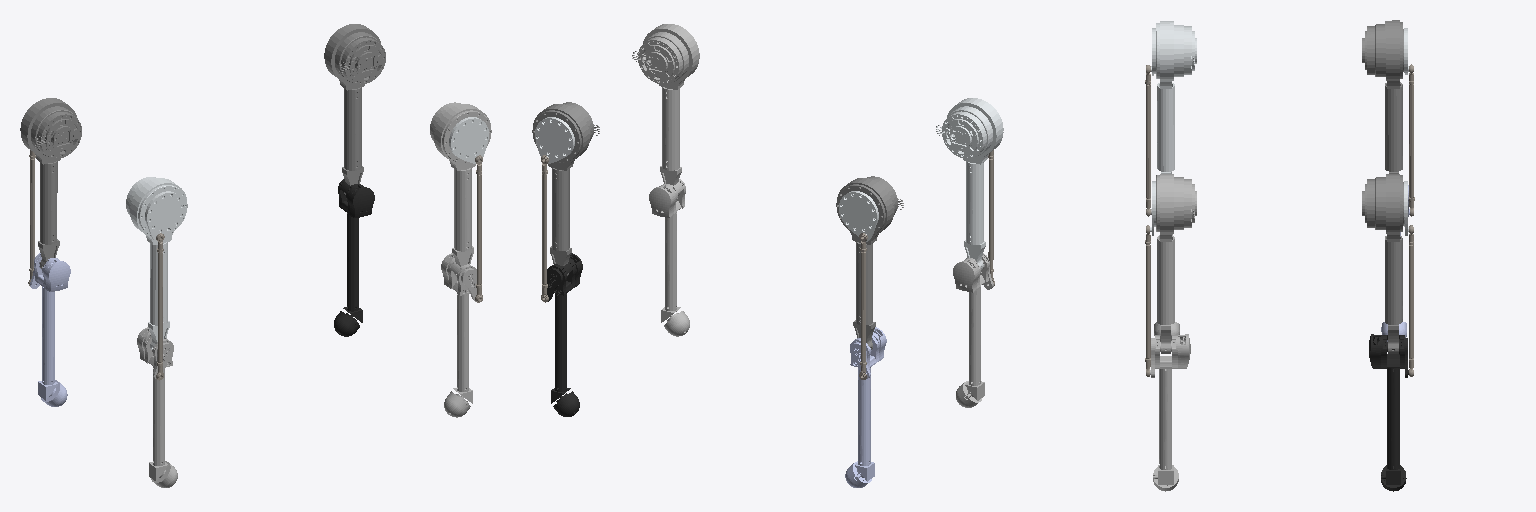
--- Render facts (derived) ---
The picture shows the robot from 3 angles, left to right: view 1: azimuth 30°, elevation 25°; view 2: azimuth 150°, elevation 25°; view 3: azimuth 270°, elevation 25°; orthographic projection.
Robot: PONGBOT_Q_V1 — 22 links, 21 joints (21 continuous); root link REAR_BODY; default pose: every joint at zero.
Links seen in each view (by area): view 1: FL_THIGH, RL_THIGH, FR_THIGH, RR_THIGH, RL_ROTATOR3, FR_ROTATOR3, FL_ROTATOR3, RR_ROTATOR3, FR_ROTATOR1, RR_ROTATOR1, FR_ROTATOR2, RR_ROTATOR2 (+1 smaller); view 2: RR_THIGH, FR_THIGH, FL_THIGH, RL_THIGH, FL_ROTATOR3, RR_ROTATOR3, FR_ROTATOR3, RL_ROTATOR3, RL_ROTATOR1, FL_ROTATOR1, RL_ROTATOR2, FL_ROTATOR2 (+1 smaller); view 3: FL_THIGH, FR_THIGH, RL_THIGH, RR_THIGH, FR_ROTATOR3, FL_ROTATOR3, RR_ROTATOR2, FL_ROTATOR2, RL_ROTATOR2, FR_ROTATOR2.
Boxes of the visible links, <box> form: FL_THIGH: <box>324,24,385,194</box>; RL_THIGH: <box>20,98,81,268</box>; FR_THIGH: <box>430,102,491,276</box>; RR_THIGH: <box>126,177,187,349</box>; RL_ROTATOR3: <box>30,253,70,406</box>; FR_ROTATOR3: <box>441,253,476,417</box>; FL_ROTATOR3: <box>334,179,374,336</box>; RR_ROTATOR3: <box>137,327,177,487</box>; FR_ROTATOR1: <box>449,117,488,163</box>; RR_ROTATOR1: <box>145,191,184,241</box>; FR_ROTATOR2: <box>475,155,482,302</box>; RR_ROTATOR2: <box>156,233,164,380</box>; RR_THIGH: <box>936,98,1003,269</box>; FR_THIGH: <box>632,24,699,194</box>; FL_THIGH: <box>532,102,599,275</box>; RL_THIGH: <box>836,176,903,349</box>; FL_ROTATOR3: <box>547,253,582,416</box>; RR_ROTATOR3: <box>953,253,993,407</box>; FR_ROTATOR3: <box>649,179,689,336</box>; RL_ROTATOR3: <box>845,327,886,487</box>; RL_ROTATOR1: <box>839,191,878,241</box>; FL_ROTATOR1: <box>535,117,574,163</box>; RL_ROTATOR2: <box>859,233,867,379</box>; FL_ROTATOR2: <box>541,155,548,302</box>; FL_THIGH: <box>1362,174,1403,353</box>; FR_THIGH: <box>1156,174,1196,353</box>; RL_THIGH: <box>1362,20,1403,173</box>; RR_THIGH: <box>1156,21,1196,173</box>; FR_ROTATOR3: <box>1150,334,1190,491</box>; FL_ROTATOR3: <box>1369,334,1408,491</box>; RR_ROTATOR2: <box>1145,65,1150,216</box>; FL_ROTATOR2: <box>1409,225,1413,376</box>; RL_ROTATOR2: <box>1409,64,1414,216</box>; FR_ROTATOR2: <box>1145,225,1150,376</box>.
Bounding box of the posed robot: 0.8226 × 0.5209 × 0.6772 m (x, y, z).
Meshes: 22 distinct files referenced, 16 mesh visuals loaded (16 binary STL); not drawn: 6 (reference not matched to a file when rendering).

The robot description file, URDF, robot "PONGBOT_Q_V1":
<robot
  name="PONGBOT_Q_V1">
  <link
    name="REAR_BODY">
    <inertial>
      <origin
        xyz="0.1148 0.002 0.0148"
        rpy="0 0 0" />
      <mass
        value="11.1272" />
      <inertia
        ixx="0.1226"
        ixy="0.0038"
        ixz="-0.0088"
        iyy="0.1436"
        iyz="-0.0012"
        izz="0.2321" />
    </inertial>
    <visual>
      <origin
        xyz="0 0 0"
        rpy="0 0 0" />
      <geometry>
        <mesh
          filename="package://PONGBOT_Q_V1/meshes/REAR_BODY.STL" />
      </geometry>
      <material
        name="">
        <color
          rgba="0.79216 0.81961 0.93333 1" />
      </material>
    </visual>
    <collision>
      <origin
        xyz="0 0 0"
        rpy="0 0 0" />
      <geometry>
        <mesh
          filename="package://PONGBOT_Q_V1/meshes/REAR_BODY.STL" />
      </geometry>
    </collision>
  </link>
  <link
    name="FRONT_BODY">
    <inertial>
      <origin
        xyz="0.2333 -0.0003 -0.0078"
        rpy="0 0 0" />
      <mass
        value="12.2749" />
      <inertia
        ixx="0.1398"
        ixy="0.0001"
        ixz="-0.0097"
        iyy="0.1334"
        iyz="0"
        izz="0.2186" />
    </inertial>
    <visual>
      <origin
        xyz="0 0 0"
        rpy="0 0 0" />
      <geometry>
        <mesh
          filename="package://PONGBOT_Q_V1/meshes/FRONT_BODY.STL" />
      </geometry>
      <material
        name="">
        <color
          rgba="0.19608 0.19608 0.19608 1" />
      </material>
    </visual>
    <collision>
      <origin
        xyz="0 0 0"
        rpy="0 0 0" />
      <geometry>
        <mesh
          filename="package://PONGBOT_Q_V1/meshes/FRONT_BODY.STL" />
      </geometry>
    </collision>
  </link>
  <joint
    name="WAIST_JOINT"
    type="continuous">
    <origin
      xyz="0.349999861844157 0 0.0352383027140765"
      rpy="9.86076131526265E-32 -1.06745632209058E-30 3.94430452610506E-31" />
    <parent
      link="REAR_BODY" />
    <child
      link="FRONT_BODY" />
    <axis
      xyz="0 0 0.999999999992314" />
  </joint>
  <link
    name="FL_HIP">
    <inertial>
      <origin
        xyz="0.0009 0.0001 -0.0002"
        rpy="0 0 0" />
      <mass
        value="1.1163" />
      <inertia
        ixx="0.0011"
        ixy="0"
        ixz="0"
        iyy="0.0012"
        iyz="0"
        izz="0.0012" />
    </inertial>
    <visual>
      <origin
        xyz="0 0 0"
        rpy="0 0 0" />
      <geometry>
        <mesh
          filename="package://PONGBOT_Q_V1/meshes/FL_HIP.STL" />
      </geometry>
      <material
        name="">
        <color
          rgba="0.75294 0.75294 0.75294 1" />
      </material>
    </visual>
    <collision>
      <origin
        xyz="0 0 0"
        rpy="0 0 0" />
      <geometry>
        <mesh
          filename="package://PONGBOT_Q_V1/meshes/FL_HIP.STL" />
      </geometry>
    </collision>
  </link>
  <joint
    name="FL_HIP_JOINT"
    type="continuous">
    <origin
      xyz="0.350000139384095 0.11502409051225 -0.0355502055156764"
      rpy="0 8.47032947254301E-22 2.10366195349206E-15" />
    <parent
      link="FRONT_BODY" />
    <child
      link="FL_HIP" />
    <axis
      xyz="-0.999999999992314 0 0" />
  </joint>
  <link
    name="FL_THIGH">
    <inertial>
      <origin
        xyz="0 -0.0162 -0.0264"
        rpy="0 0 0" />
      <mass
        value="1.8748" />
      <inertia
        ixx="0.0112"
        ixy="0"
        ixz="0"
        iyy="0.0117"
        iyz="-0.0008"
        izz="0.0017" />
    </inertial>
    <visual>
      <origin
        xyz="0 0 0"
        rpy="0 0 0" />
      <geometry>
        <mesh
          filename="package://PONGBOT_Q_V1/meshes/FL_THIGH.STL" />
      </geometry>
      <material
        name="">
        <color
          rgba="0.6 0.6 0.6 1" />
      </material>
    </visual>
    <collision>
      <origin
        xyz="0 0 0"
        rpy="0 0 0" />
      <geometry>
        <mesh
          filename="package://PONGBOT_Q_V1/meshes/FL_THIGH.STL" />
      </geometry>
    </collision>
  </link>
  <joint
    name="FL_THIGH_JOINT"
    type="continuous">
    <origin
      xyz="0 0.105 0"
      rpy="0 -8.47032948321757E-22 -2.10366195349206E-15" />
    <parent
      link="FL_HIP" />
    <child
      link="FL_THIGH" />
    <axis
      xyz="0 1 0" />
  </joint>
  <link
    name="FL_ROTATOR1">
    <inertial>
      <origin
        xyz="0.0021 -0.0028 -0.0058"
        rpy="0 0 0" />
      <mass
        value="0.072" />
      <inertia
        ixx="0.0001"
        ixy="0"
        ixz="0"
        iyy="0.0001"
        iyz="0"
        izz="0" />
    </inertial>
    <visual>
      <origin
        xyz="0 0 0"
        rpy="0 0 0" />
      <geometry>
        <mesh
          filename="package://PONGBOT_Q_V1/meshes/FL_ROTATOR1.STL" />
      </geometry>
      <material
        name="">
        <color
          rgba="0.89804 0.91765 0.92941 1" />
      </material>
    </visual>
    <collision>
      <origin
        xyz="0 0 0"
        rpy="0 0 0" />
      <geometry>
        <mesh
          filename="package://PONGBOT_Q_V1/meshes/FL_ROTATOR1.STL" />
      </geometry>
    </collision>
  </link>
  <joint
    name="FL_ROTATOR1_JOINT"
    type="continuous">
    <origin
      xyz="0 0.0276499999999884 0"
      rpy="9.86076131526265E-32 -1.06745632209058E-30 0" />
    <parent
      link="FL_THIGH" />
    <child
      link="FL_ROTATOR1" />
    <axis
      xyz="0 1 0" />
  </joint>
  <link
    name="FL_ROTATOR2">
    <inertial>
      <origin
        xyz="0 0 -0.1525"
        rpy="0 0 0" />
      <mass
        value="0.2047" />
      <inertia
        ixx="0.0018"
        ixy="0"
        ixz="0"
        iyy="0.0018"
        iyz="0"
        izz="0" />
    </inertial>
    <visual>
      <origin
        xyz="0 0 0"
        rpy="0 0 0" />
      <geometry>
        <mesh
          filename="package://PONGBOT_Q_V1/meshes/FL_ROTATOR2.STL" />
      </geometry>
      <material
        name="">
        <color
          rgba="0.64706 0.61961 0.58824 1" />
      </material>
    </visual>
    <collision>
      <origin
        xyz="0 0 0"
        rpy="0 0 0" />
      <geometry>
        <mesh
          filename="package://PONGBOT_Q_V1/meshes/FL_ROTATOR2.STL" />
      </geometry>
    </collision>
  </link>
  <joint
    name="FL_ROTATOR2_JOINT"
    type="continuous">
    <origin
      xyz="0.0171011913784916 0.00684999999999722 -0.0469845639911272"
      rpy="9.86076131526265E-32 -1.06745632209058E-30 0" />
    <parent
      link="FL_ROTATOR1" />
    <child
      link="FL_ROTATOR2" />
    <axis
      xyz="0 1 0" />
  </joint>
  <link
    name="FL_ROTATOR3">
    <inertial>
      <origin
        xyz="-0.0183 -0.0326 -0.0427"
        rpy="0 0 0" />
      <mass
        value="0.402" />
      <inertia
        ixx="0.0052"
        ixy="0"
        ixz="0.0002"
        iyy="0.0051"
        iyz="0"
        izz="0.0002" />
    </inertial>
    <visual>
      <origin
        xyz="0 0 0"
        rpy="0 0 0" />
      <geometry>
        <mesh
          filename="package://PONGBOT_Q_V1/meshes/FL_ROTATOR3.STL" />
      </geometry>
      <material
        name="">
        <color
          rgba="0.22353 0.22353 0.22353 1" />
      </material>
    </visual>
    <collision>
      <origin
        xyz="0 0 0"
        rpy="0 0 0" />
      <geometry>
        <mesh
          filename="package://PONGBOT_Q_V1/meshes/FL_ROTATOR3.STL" />
      </geometry>
    </collision>
  </link>
  <joint
    name="FL_ROTATOR3_JOINT"
    type="continuous">
    <origin
      xyz="0 0 -0.304999999997681"
      rpy="9.86076131526265E-32 -1.06745632209058E-30 0" />
    <parent
      link="FL_ROTATOR2" />
    <child
      link="FL_ROTATOR3" />
    <axis
      xyz="0 1 0" />
  </joint>
  <link
    name="FR_HIP">
    <inertial>
      <origin
        xyz="0.0009 -0.0001 0.0002"
        rpy="0 0 0" />
      <mass
        value="1.1163" />
      <inertia
        ixx="0.0011"
        ixy="0"
        ixz="0"
        iyy="0.0012"
        iyz="0"
        izz="0.0012" />
    </inertial>
    <visual>
      <origin
        xyz="0 0 0"
        rpy="0 0 0" />
      <geometry>
        <mesh
          filename="package://PONGBOT_Q_V1/meshes/FR_HIP.STL" />
      </geometry>
      <material
        name="">
        <color
          rgba="0.75294 0.75294 0.75294 1" />
      </material>
    </visual>
    <collision>
      <origin
        xyz="0 0 0"
        rpy="0 0 0" />
      <geometry>
        <mesh
          filename="package://PONGBOT_Q_V1/meshes/FR_HIP.STL" />
      </geometry>
    </collision>
  </link>
  <joint
    name="FR_HIP_JOINT"
    type="continuous">
    <origin
      xyz="0.350000139384098 -0.115024090512249 -0.0355502055156748"
      rpy="9.86076131526265E-32 -1.06745632209058E-30 -3.94430452610506E-31" />
    <parent
      link="FRONT_BODY" />
    <child
      link="FR_HIP" />
    <axis
      xyz="-0.999999999992314 0 0" />
  </joint>
  <link
    name="FR_THIGH">
    <inertial>
      <origin
        xyz="0 0.0162 -0.0264"
        rpy="0 0 0" />
      <mass
        value="1.8748" />
      <inertia
        ixx="0.0112"
        ixy="0"
        ixz="0"
        iyy="0.0117"
        iyz="0.0008"
        izz="0.0017" />
    </inertial>
    <visual>
      <origin
        xyz="0 0 0"
        rpy="0 0 0" />
      <geometry>
        <mesh
          filename="package://PONGBOT_Q_V1/meshes/FR_THIGH.STL" />
      </geometry>
      <material
        name="">
        <color
          rgba="0.75294 0.75294 0.75294 1" />
      </material>
    </visual>
    <collision>
      <origin
        xyz="0 0 0"
        rpy="0 0 0" />
      <geometry>
        <mesh
          filename="package://PONGBOT_Q_V1/meshes/FR_THIGH.STL" />
      </geometry>
    </collision>
  </link>
  <joint
    name="FR_THIGH_JOINT"
    type="continuous">
    <origin
      xyz="0 -0.104999999999998 0"
      rpy="9.86076131526265E-32 -1.06745632209058E-30 0" />
    <parent
      link="FR_HIP" />
    <child
      link="FR_THIGH" />
    <axis
      xyz="0 1 0" />
  </joint>
  <link
    name="FR_ROTATOR1">
    <inertial>
      <origin
        xyz="0.0021 0.0028 -0.0058"
        rpy="0 0 0" />
      <mass
        value="0.072" />
      <inertia
        ixx="0.0001"
        ixy="0"
        ixz="0"
        iyy="0.0001"
        iyz="0"
        izz="0" />
    </inertial>
    <visual>
      <origin
        xyz="0 0 0"
        rpy="0 0 0" />
      <geometry>
        <mesh
          filename="package://PONGBOT_Q_V1/meshes/FR_ROTATOR1.STL" />
      </geometry>
      <material
        name="">
        <color
          rgba="0.89804 0.91765 0.92941 1" />
      </material>
    </visual>
    <collision>
      <origin
        xyz="0 0 0"
        rpy="0 0 0" />
      <geometry>
        <mesh
          filename="package://PONGBOT_Q_V1/meshes/FR_ROTATOR1.STL" />
      </geometry>
    </collision>
  </link>
  <joint
    name="FR_ROTATOR1_JOINT"
    type="continuous">
    <origin
      xyz="0 -0.0276499999999846 0"
      rpy="9.86076131526265E-32 -1.06745632209058E-30 3.94430452610506E-31" />
    <parent
      link="FR_THIGH" />
    <child
      link="FR_ROTATOR1" />
    <axis
      xyz="0 1 0" />
  </joint>
  <link
    name="FR_ROTATOR2">
    <inertial>
      <origin
        xyz="0 0 -0.1525"
        rpy="0 0 0" />
      <mass
        value="0.2047" />
      <inertia
        ixx="0.0018"
        ixy="0"
        ixz="0"
        iyy="0.0018"
        iyz="0"
        izz="0" />
    </inertial>
    <visual>
      <origin
        xyz="0 0 0"
        rpy="0 0 0" />
      <geometry>
        <mesh
          filename="package://PONGBOT_Q_V1/meshes/FR_ROTATOR2.STL" />
      </geometry>
      <material
        name="">
        <color
          rgba="0.64706 0.61961 0.58824 1" />
      </material>
    </visual>
    <collision>
      <origin
        xyz="0 0 0"
        rpy="0 0 0" />
      <geometry>
        <mesh
          filename="package://PONGBOT_Q_V1/meshes/FR_ROTATOR2.STL" />
      </geometry>
    </collision>
  </link>
  <joint
    name="FR_ROTATOR2_JOINT"
    type="continuous">
    <origin
      xyz="0.0171011913784889 -0.00684999999999969 -0.0469845639911275"
      rpy="9.86076131526265E-32 -1.06745632209058E-30 -3.94430452610506E-31" />
    <parent
      link="FR_ROTATOR1" />
    <child
      link="FR_ROTATOR2" />
    <axis
      xyz="0 1 0" />
  </joint>
  <link
    name="FR_ROTATOR3">
    <inertial>
      <origin
        xyz="-0.0179 0.0326 -0.0427"
        rpy="0 0 0" />
      <mass
        value="0.402" />
      <inertia
        ixx="0.0052"
        ixy="0"
        ixz="0.0002"
        iyy="0.0051"
        iyz="0"
        izz="0.0002" />
    </inertial>
    <visual>
      <origin
        xyz="0 0 0"
        rpy="0 0 0" />
      <geometry>
        <mesh
          filename="package://PONGBOT_Q_V1/meshes/FR_ROTATOR3.STL" />
      </geometry>
      <material
        name="">
        <color
          rgba="0.75294 0.75294 0.75294 1" />
      </material>
    </visual>
    <collision>
      <origin
        xyz="0 0 0"
        rpy="0 0 0" />
      <geometry>
        <mesh
          filename="package://PONGBOT_Q_V1/meshes/FR_ROTATOR3.STL" />
      </geometry>
    </collision>
  </link>
  <joint
    name="FR_ROTATOR3_JOINT"
    type="continuous">
    <origin
      xyz="0 0 -0.304999999997682"
      rpy="9.86076131526265E-32 -1.06745632209058E-30 0" />
    <parent
      link="FR_ROTATOR2" />
    <child
      link="FR_ROTATOR3" />
    <axis
      xyz="0 1 0" />
  </joint>
  <link
    name="RL_HIP">
    <inertial>
      <origin
        xyz="-0.0009 0.0001 0.0002"
        rpy="0 0 0" />
      <mass
        value="1.1163" />
      <inertia
        ixx="0.0011"
        ixy="0"
        ixz="0"
        iyy="0.0012"
        iyz="0"
        izz="0.0012" />
    </inertial>
    <visual>
      <origin
        xyz="0 0 0"
        rpy="0 0 0" />
      <geometry>
        <mesh
          filename="package://PONGBOT_Q_V1/meshes/RL_HIP.STL" />
      </geometry>
      <material
        name="">
        <color
          rgba="0.75294 0.75294 0.75294 1" />
      </material>
    </visual>
    <collision>
      <origin
        xyz="0 0 0"
        rpy="0 0 0" />
      <geometry>
        <mesh
          filename="package://PONGBOT_Q_V1/meshes/RL_HIP.STL" />
      </geometry>
    </collision>
  </link>
  <joint
    name="RL_HIP_JOINT"
    type="continuous">
    <origin
      xyz="0 0.115024090512224 -0.000314647285989393"
      rpy="9.86076131526265E-32 -1.06745632209058E-30 0" />
    <parent
      link="REAR_BODY" />
    <child
      link="RL_HIP" />
    <axis
      xyz="-0.999999999992314 0 0" />
  </joint>
  <link
    name="RL_THIGH">
    <inertial>
      <origin
        xyz="0 -0.0161 -0.0264"
        rpy="0 0 0" />
      <mass
        value="1.8748" />
      <inertia
        ixx="0.0112"
        ixy="0"
        ixz="0"
        iyy="0.0117"
        iyz="-0.0008"
        izz="0.0017" />
    </inertial>
    <visual>
      <origin
        xyz="0 0 0"
        rpy="0 0 0" />
      <geometry>
        <mesh
          filename="package://PONGBOT_Q_V1/meshes/RL_THIGH.STL" />
      </geometry>
      <material
        name="">
        <color
          rgba="0.6 0.6 0.6 1" />
      </material>
    </visual>
    <collision>
      <origin
        xyz="0 0 0"
        rpy="0 0 0" />
      <geometry>
        <mesh
          filename="package://PONGBOT_Q_V1/meshes/RL_THIGH.STL" />
      </geometry>
    </collision>
  </link>
  <joint
    name="RL_THIGH_JOINT"
    type="continuous">
    <origin
      xyz="0 0.10499960714959 0.000287225408803455"
      rpy="9.86076131526265E-32 -1.06745632209058E-30 0" />
    <parent
      link="RL_HIP" />
    <child
      link="RL_THIGH" />
    <axis
      xyz="0 0.999996258567356 0.00273548008383928" />
  </joint>
  <link
    name="RL_ROTATOR1">
    <inertial>
      <origin
        xyz="-0.0021 -0.0028 -0.0058"
        rpy="0 0 0" />
      <mass
        value="0.072" />
      <inertia
        ixx="0.0001"
        ixy="0"
        ixz="0"
        iyy="0.0001"
        iyz="0"
        izz="0" />
    </inertial>
    <visual>
      <origin
        xyz="0 0 0"
        rpy="0 0 0" />
      <geometry>
        <mesh
          filename="package://PONGBOT_Q_V1/meshes/RL_ROTATOR1.STL" />
      </geometry>
      <material
        name="">
        <color
          rgba="0.89804 0.91765 0.92941 1" />
      </material>
    </visual>
    <collision>
      <origin
        xyz="0 0 0"
        rpy="0 0 0" />
      <geometry>
        <mesh
          filename="package://PONGBOT_Q_V1/meshes/RL_ROTATOR1.STL" />
      </geometry>
    </collision>
  </link>
  <joint
    name="RL_ROTATOR1_JOINT"
    type="continuous">
    <origin
      xyz="0 0.0276498965493659 7.56360243180966E-05"
      rpy="9.86076131526265E-32 -1.06745632209058E-30 0" />
    <parent
      link="RL_THIGH" />
    <child
      link="RL_ROTATOR1" />
    <axis
      xyz="0 0.999996258567356 0.00273548008383955" />
  </joint>
  <link
    name="RL_ROTATOR2">
    <inertial>
      <origin
        xyz="0 0.0004 -0.1525"
        rpy="0 0 0" />
      <mass
        value="0.2047" />
      <inertia
        ixx="0.0018"
        ixy="0"
        ixz="0"
        iyy="0.0018"
        iyz="0"
        izz="0" />
    </inertial>
    <visual>
      <origin
        xyz="0 0 0"
        rpy="0 0 0" />
      <geometry>
        <mesh
          filename="package://PONGBOT_Q_V1/meshes/RL_ROTATOR2.STL" />
      </geometry>
      <material
        name="">
        <color
          rgba="0.64706 0.61961 0.58824 1" />
      </material>
    </visual>
    <collision>
      <origin
        xyz="0 0 0"
        rpy="0 0 0" />
      <geometry>
        <mesh
          filename="package://PONGBOT_Q_V1/meshes/RL_ROTATOR2.STL" />
      </geometry>
    </collision>
  </link>
  <joint
    name="RL_ROTATOR2_JOINT"
    type="continuous">
    <origin
      xyz="-0.0171008230281334 0.00697849989361776 -0.0469657842582811"
      rpy="9.86076131526265E-32 -1.06745632209058E-30 0" />
    <parent
      link="RL_ROTATOR1" />
    <child
      link="RL_ROTATOR2" />
    <axis
      xyz="0 0.999996258567356 0.00273548008384041" />
  </joint>
  <link
    name="RL_ROTATOR3">
    <inertial>
      <origin
        xyz="0.0179 -0.0325 -0.0428"
        rpy="0 0 0" />
      <mass
        value="0.402" />
      <inertia
        ixx="0.0052"
        ixy="0"
        ixz="-0.002"
        iyy="0.0051"
        iyz="0"
        izz="0.002" />
    </inertial>
    <visual>
      <origin
        xyz="0 0 0"
        rpy="0 0 0" />
      <geometry>
        <mesh
          filename="package://PONGBOT_Q_V1/meshes/RL_ROTATOR3.STL" />
      </geometry>
      <material
        name="">
        <color
          rgba="0.79216 0.81961 0.93333 1" />
      </material>
    </visual>
    <collision>
      <origin
        xyz="0 0 0"
        rpy="0 0 0" />
      <geometry>
        <mesh
          filename="package://PONGBOT_Q_V1/meshes/RL_ROTATOR3.STL" />
      </geometry>
    </collision>
  </link>
  <joint
    name="RL_ROTATOR3_JOINT"
    type="continuous">
    <origin
      xyz="0 0.000834321425604079 -0.304998858860728"
      rpy="9.86076131526265E-32 -1.06745632209058E-30 0" />
    <parent
      link="RL_ROTATOR2" />
    <child
      link="RL_ROTATOR3" />
    <axis
      xyz="0 0.999996258567356 0.00273548008384001" />
  </joint>
  <link
    name="RR_HIP">
    <inertial>
      <origin
        xyz="-0.0009 -0.0001 -0.0002"
        rpy="0 0 0" />
      <mass
        value="1.1163" />
      <inertia
        ixx="0.0011"
        ixy="0"
        ixz="0"
        iyy="0.0012"
        iyz="0"
        izz="0.0012" />
    </inertial>
    <visual>
      <origin
        xyz="0 0 0"
        rpy="0 0 0" />
      <geometry>
        <mesh
          filename="package://PONGBOT_Q_V1/meshes/RR_HIP.STL" />
      </geometry>
      <material
        name="">
        <color
          rgba="0.75294 0.75294 0.75294 1" />
      </material>
    </visual>
    <collision>
      <origin
        xyz="0 0 0"
        rpy="0 0 0" />
      <geometry>
        <mesh
          filename="package://PONGBOT_Q_V1/meshes/RR_HIP.STL" />
      </geometry>
    </collision>
  </link>
  <joint
    name="RR_HIP_JOINT"
    type="continuous">
    <origin
      xyz="0 -0.11502409051226 -0.00031464728598948"
      rpy="9.86076131526265E-32 -1.06745632209058E-30 0" />
    <parent
      link="REAR_BODY" />
    <child
      link="RR_HIP" />
    <axis
      xyz="-0.999999999992314 0 0" />
  </joint>
  <link
    name="RR_THIGH">
    <inertial>
      <origin
        xyz="0 0.0163 -0.0263"
        rpy="0 0 0" />
      <mass
        value="1.8748" />
      <inertia
        ixx="0.0112"
        ixy="0"
        ixz="0"
        iyy="0.0117"
        iyz="0.0008"
        izz="0.0017" />
    </inertial>
    <visual>
      <origin
        xyz="0 0 0"
        rpy="0 0 0" />
      <geometry>
        <mesh
          filename="package://PONGBOT_Q_V1/meshes/RR_THIGH.STL" />
      </geometry>
      <material
        name="">
        <color
          rgba="0.89804 0.91765 0.92941 1" />
      </material>
    </visual>
    <collision>
      <origin
        xyz="0 0 0"
        rpy="0 0 0" />
      <geometry>
        <mesh
          filename="package://PONGBOT_Q_V1/meshes/RR_THIGH.STL" />
      </geometry>
    </collision>
  </link>
  <joint
    name="RR_THIGH_JOINT"
    type="continuous">
    <origin
      xyz="0 -0.10499960714956 -0.000287225408803039"
      rpy="9.86076131526265E-32 -1.06745632209058E-30 0" />
    <parent
      link="RR_HIP" />
    <child
      link="RR_THIGH" />
    <axis
      xyz="0 0.999996258567356 0.00273548008383845" />
  </joint>
  <link
    name="RR_ROTATOR1">
    <inertial>
      <origin
        xyz="-0.0021 0.0029 -0.0058"
        rpy="0 0 0" />
      <mass
        value="0.072" />
      <inertia
        ixx="0.0001"
        ixy="0"
        ixz="0"
        iyy="0.0001"
        iyz="0"
        izz="0" />
    </inertial>
    <visual>
      <origin
        xyz="0 0 0"
        rpy="0 0 0" />
      <geometry>
        <mesh
          filename="package://PONGBOT_Q_V1/meshes/RR_ROTATOR1.STL" />
      </geometry>
      <material
        name="">
        <color
          rgba="0.89804 0.91765 0.92941 1" />
      </material>
    </visual>
    <collision>
      <origin
        xyz="0 0 0"
        rpy="0 0 0" />
      <geometry>
        <mesh
          filename="package://PONGBOT_Q_V1/meshes/RR_ROTATOR1.STL" />
      </geometry>
    </collision>
  </link>
  <joint
    name="RR_ROTATOR1_JOINT"
    type="continuous">
    <origin
      xyz="0 -0.0276498965493697 -7.56360243180827E-05"
      rpy="9.86076131526265E-32 -1.06745632209058E-30 0" />
    <parent
      link="RR_THIGH" />
    <child
      link="RR_ROTATOR1" />
    <axis
      xyz="0 0.999996258567356 0.00273548008383831" />
  </joint>
  <link
    name="RR_ROTATOR2">
    <inertial>
      <origin
        xyz="0 0.0004 -0.1525"
        rpy="0 0 0" />
      <mass
        value="0.2047" />
      <inertia
        ixx="0.0018"
        ixy="0"
        ixz="0"
        iyy="0.0018"
        iyz="0"
        izz="0" />
    </inertial>
    <visual>
      <origin
        xyz="0 0 0"
        rpy="0 0 0" />
      <geometry>
        <mesh
          filename="package://PONGBOT_Q_V1/meshes/RR_ROTATOR2.STL" />
      </geometry>
      <material
        name="">
        <color
          rgba="0.64706 0.61961 0.58824 1" />
      </material>
    </visual>
    <collision>
      <origin
        xyz="0 0 0"
        rpy="0 0 0" />
      <geometry>
        <mesh
          filename="package://PONGBOT_Q_V1/meshes/RR_ROTATOR2.STL" />
      </geometry>
    </collision>
  </link>
  <joint
    name="RR_ROTATOR2_JOINT"
    type="continuous">
    <origin
      xyz="-0.0171008228811629 -0.00672144884875131 -0.0470032603354323"
      rpy="9.86076131526265E-32 -1.06745632209058E-30 0" />
    <parent
      link="RR_ROTATOR1" />
    <child
      link="RR_ROTATOR2" />
    <axis
      xyz="0 0.999996258567356 0.00273548008384041" />
  </joint>
  <link
    name="RR_ROTATOR3">
    <inertial>
      <origin
        xyz="0.0183 0.0327 -0.0426"
        rpy="0 0 0" />
      <mass
        value="0.402" />
      <inertia
        ixx="0.0052"
        ixy="0"
        ixz="-0.0002"
        iyy="0.0051"
        iyz="-0.0001"
        izz="0.0002" />
    </inertial>
    <visual>
      <origin
        xyz="0 0 0"
        rpy="0 0 0" />
      <geometry>
        <mesh
          filename="package://PONGBOT_Q_V1/meshes/RR_ROTATOR3.STL" />
      </geometry>
      <material
        name="">
        <color
          rgba="0.75294 0.75294 0.75294 1" />
      </material>
    </visual>
    <collision>
      <origin
        xyz="0 0 0"
        rpy="0 0 0" />
      <geometry>
        <mesh
          filename="package://PONGBOT_Q_V1/meshes/RR_ROTATOR3.STL" />
      </geometry>
    </collision>
  </link>
  <joint
    name="RR_ROTATOR3_JOINT"
    type="continuous">
    <origin
      xyz="0 0.000834321425605467 -0.304998858860725"
      rpy="9.86076131526265E-32 -1.06745632209058E-30 0" />
    <parent
      link="RR_ROTATOR2" />
    <child
      link="RR_ROTATOR3" />
    <axis
      xyz="0 0.999996258567356 0.00273548008383997" />
  </joint>
</robot>
